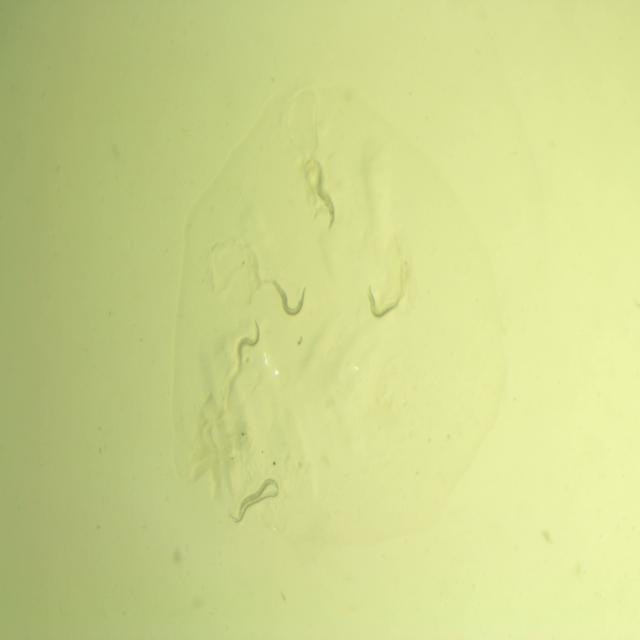worm: (354, 281, 406, 340), (308, 159, 345, 235), (267, 272, 324, 321), (226, 484, 283, 527), (234, 310, 268, 372), (236, 477, 281, 520)
